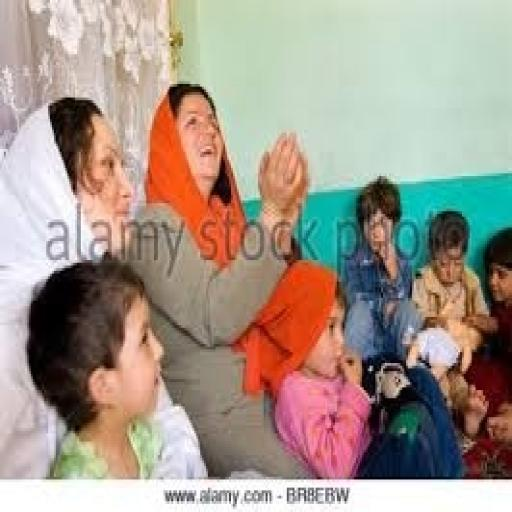clapping: (121, 78, 310, 346)
